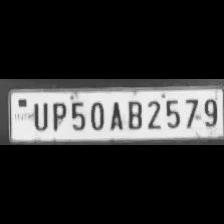0: (86, 97, 106, 130)
2: (144, 97, 162, 130)
5: (66, 98, 86, 132), (161, 96, 181, 130)
7: (180, 95, 200, 129)
9: (199, 96, 219, 128)
A: (106, 98, 124, 130)
B: (123, 97, 143, 130)
P: (47, 99, 67, 131)
U: (27, 99, 49, 131)
